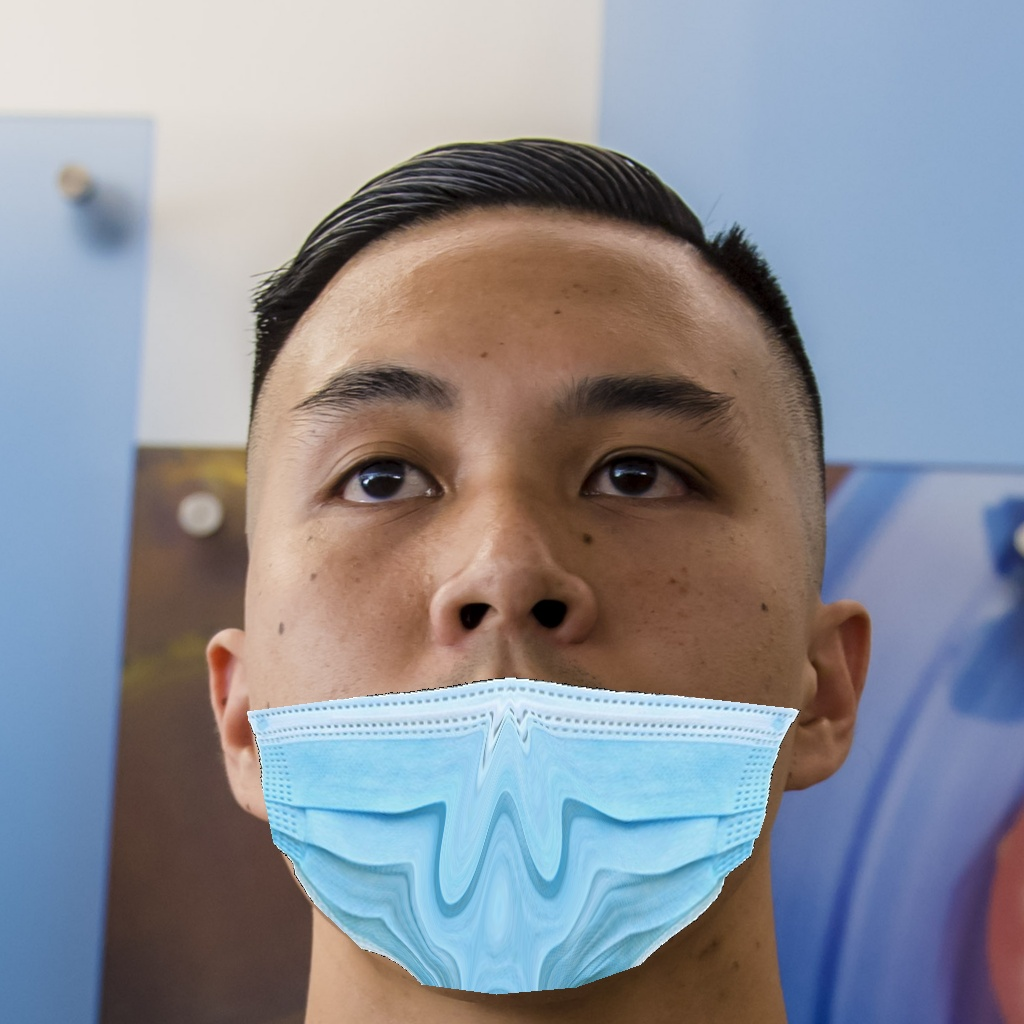Mask_Mouth_Chin: (243, 390, 805, 993)
